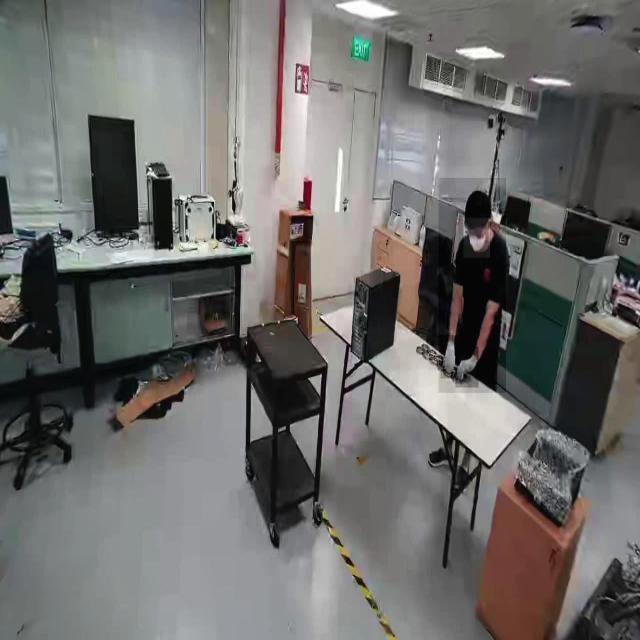face_mask: (464, 218, 490, 258)
hand_glove: (455, 346, 479, 388), (440, 335, 458, 380)
head_nohelmet: (462, 189, 490, 219)
person: (438, 178, 506, 394)
shoes: (427, 440, 457, 469)
